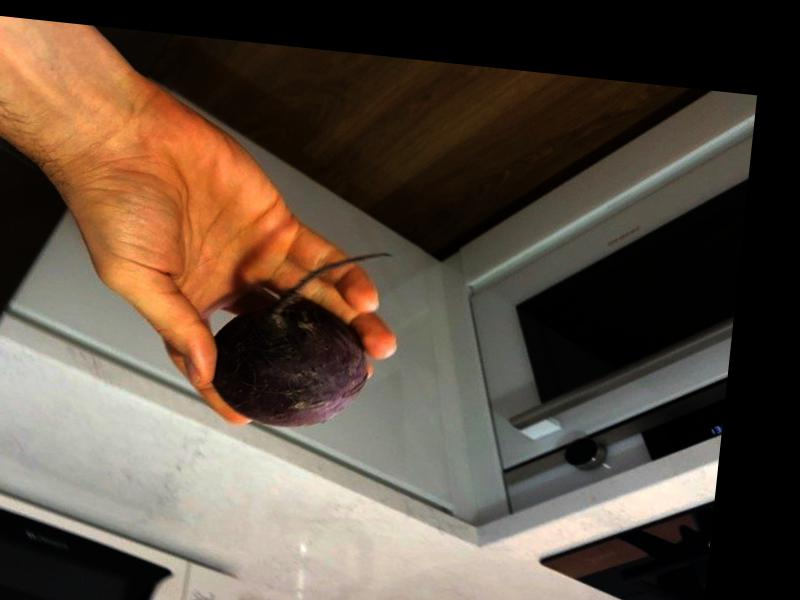Beet: (207, 235, 395, 436)
